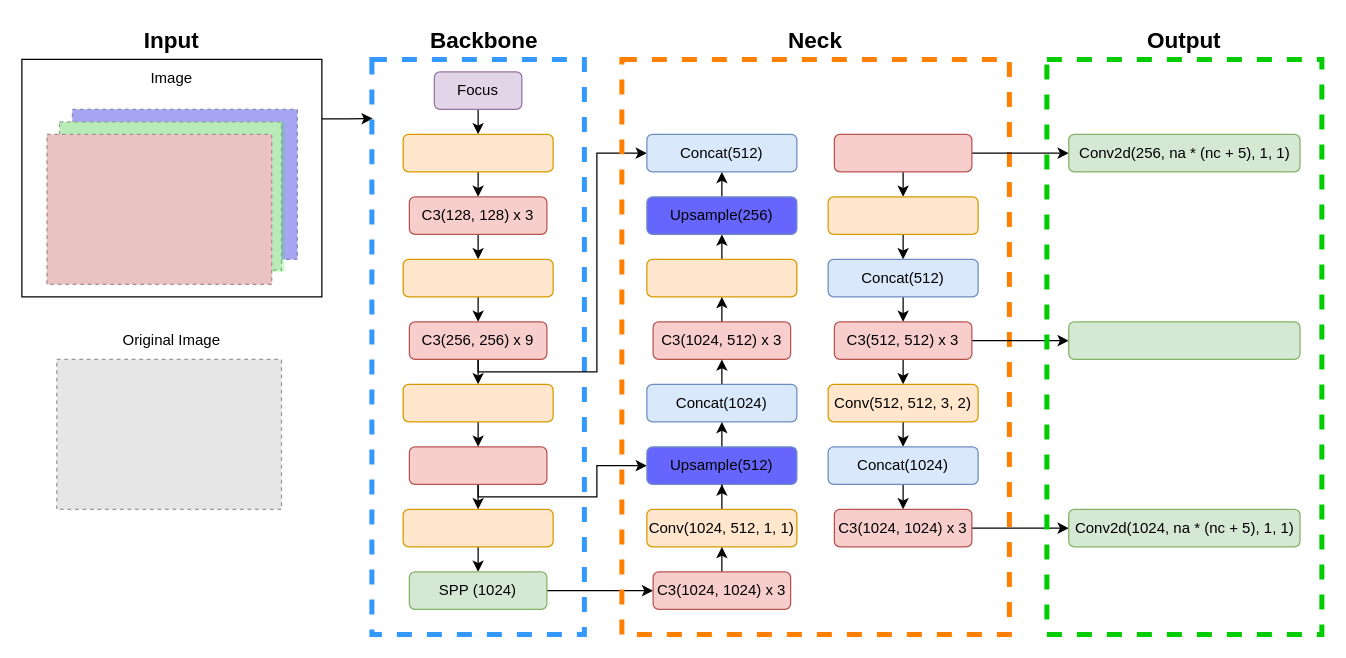
Image size: 1346x658. Some labels were removed from this diagram. Grey dashed boxes stand in for pictures. The shapes that lost their labels are listed below. From the top down, each one's centre as x and y in pixels, then its label:
the point at 477,152: Conv(64, 128, 3, 2)
the point at 902,152: C3(512, 256) x 3
the point at 902,215: Conv(256, 256, 3, 2)
the point at 477,277: Conv(128, 256, 3, 2)
the point at 721,277: Conv(512, 256, 1, 1)
the point at 1184,340: Conv2d(512, na * (nc + 5), 1, 1)
the point at 477,402: Conv(256, 512, 3, 2)
the point at 477,465: C3(512, 512) x 9
the point at 477,527: Conv(512, 1024, 3, 2)
